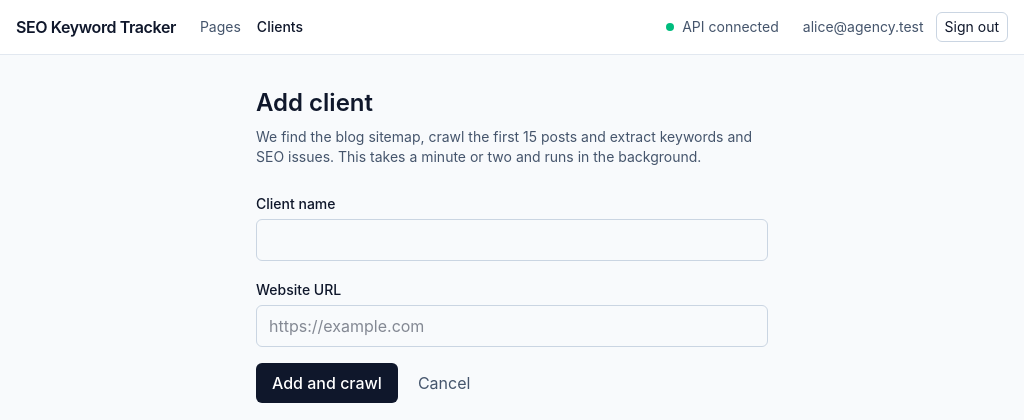
Scenario: add client › creates the client and shows its crawl status on the clients page
The image size is (1024, 420).
Step 1. Type "Acme" into the field labelled "Client name" → (512, 240), box 256,219 -> 768,261
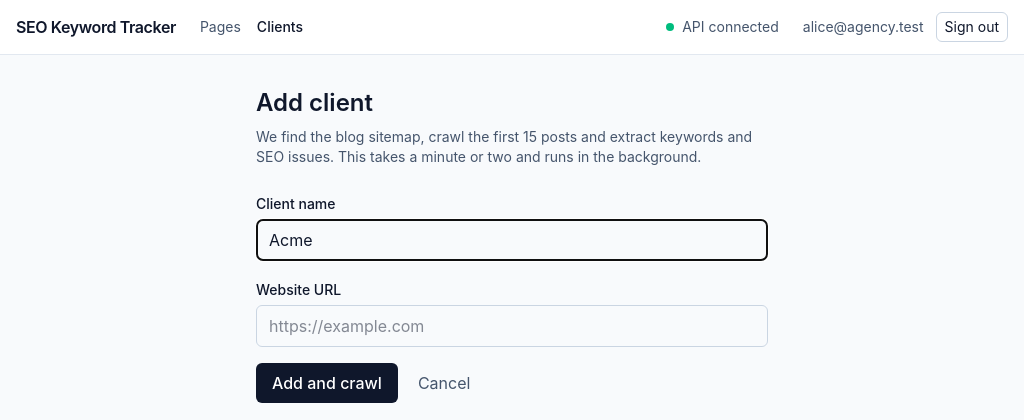
Step 2. Type "https://acme.example" into the field labelled "Website URL" → (512, 326), box 256,305 -> 768,347
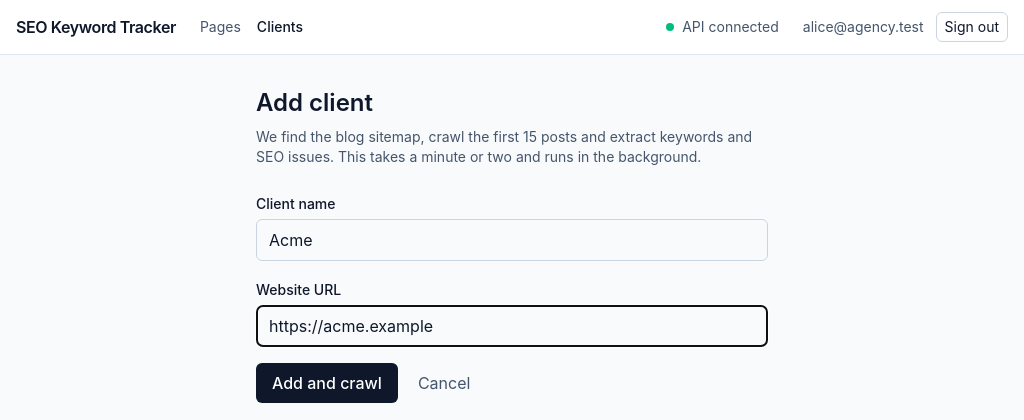
Step 3. Click the button "Add and crawl" → (327, 383), box 256,363 -> 398,403
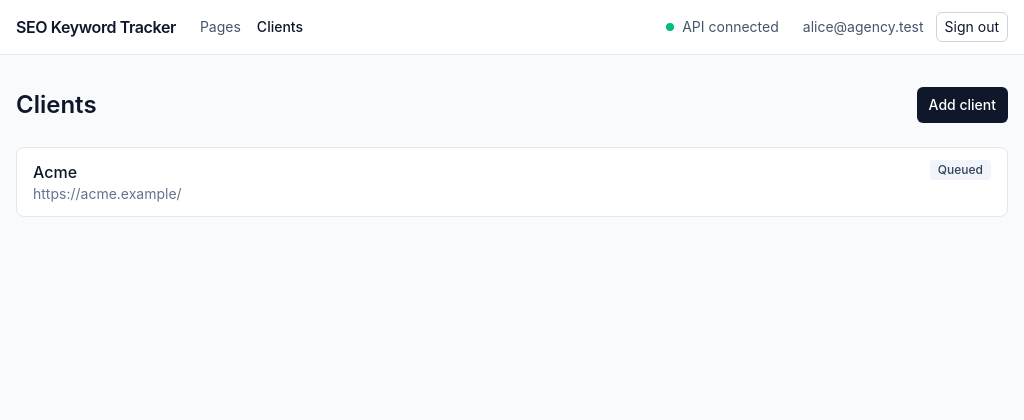
Check: the text "Queued" is shown, box 930,160 -> 991,180
